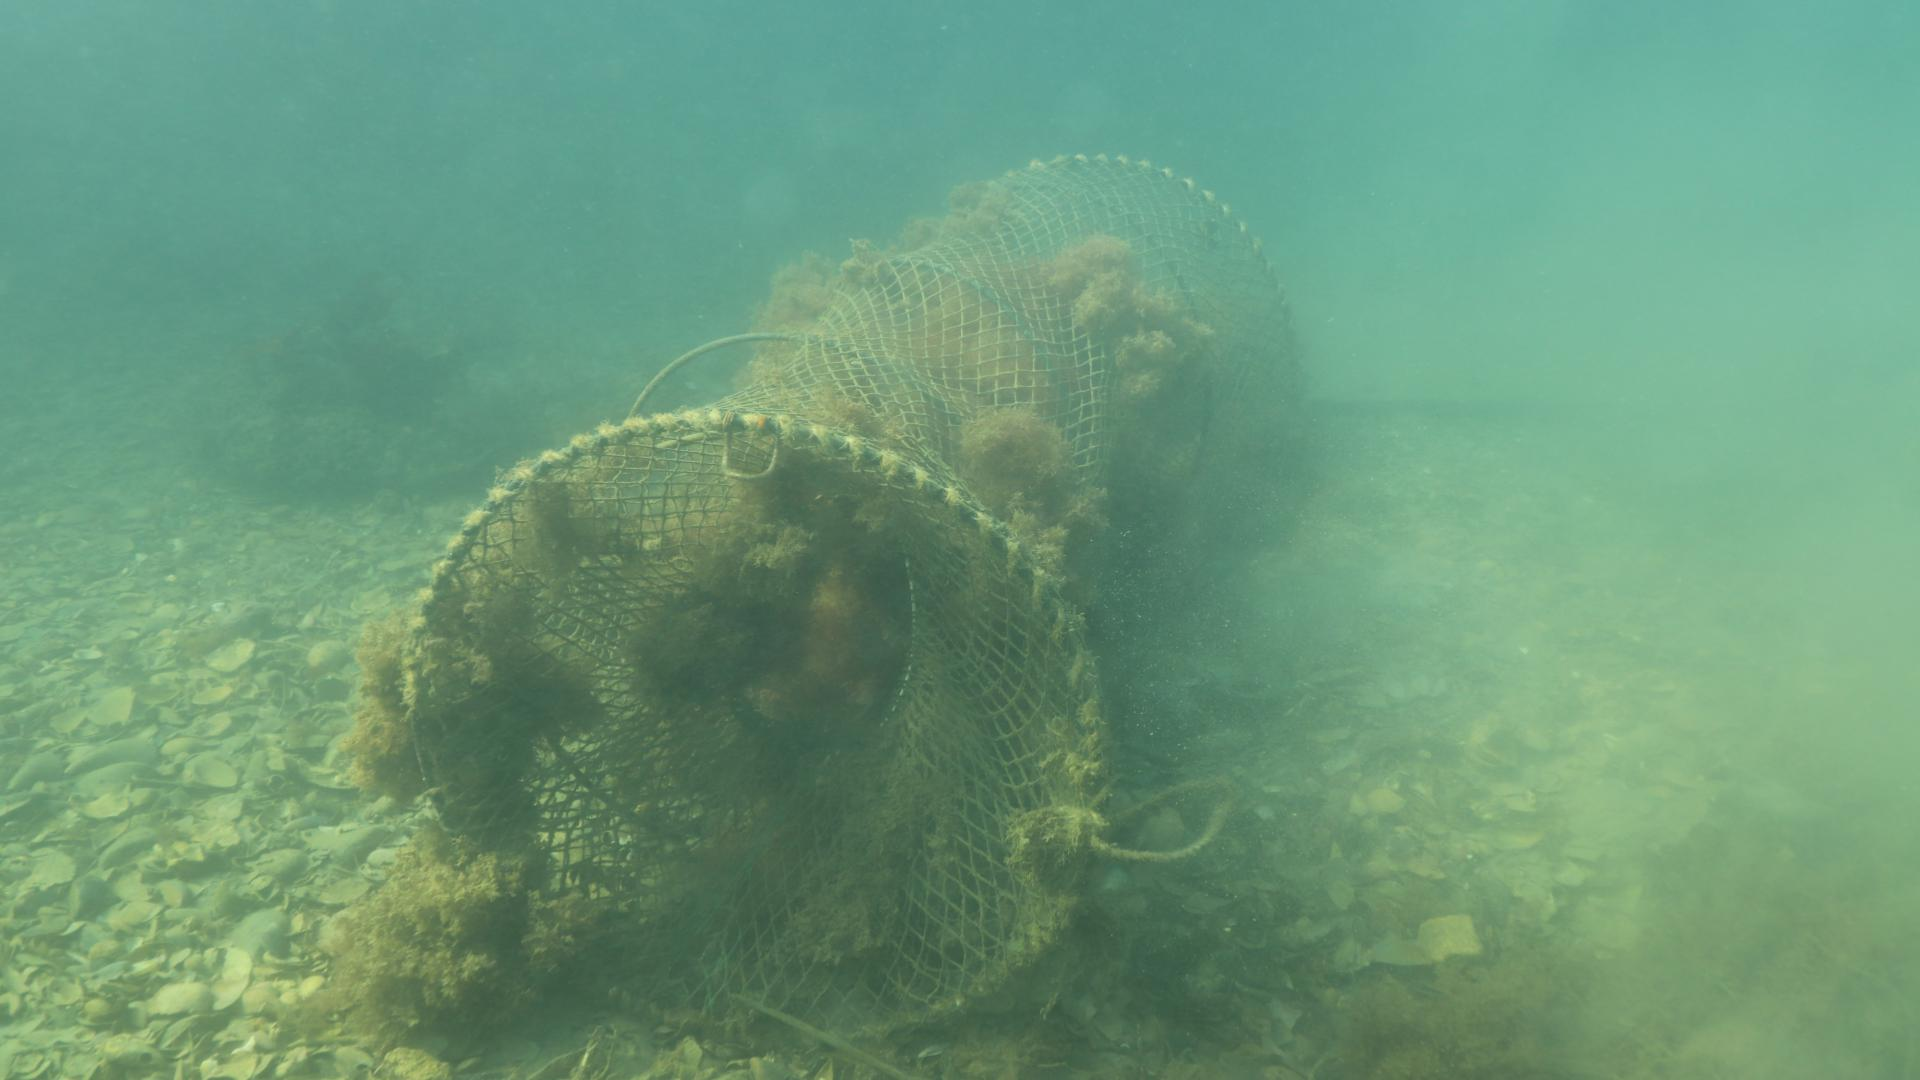rope: (1113, 766, 1255, 865)
spring fish trap: (398, 152, 1313, 1044)
